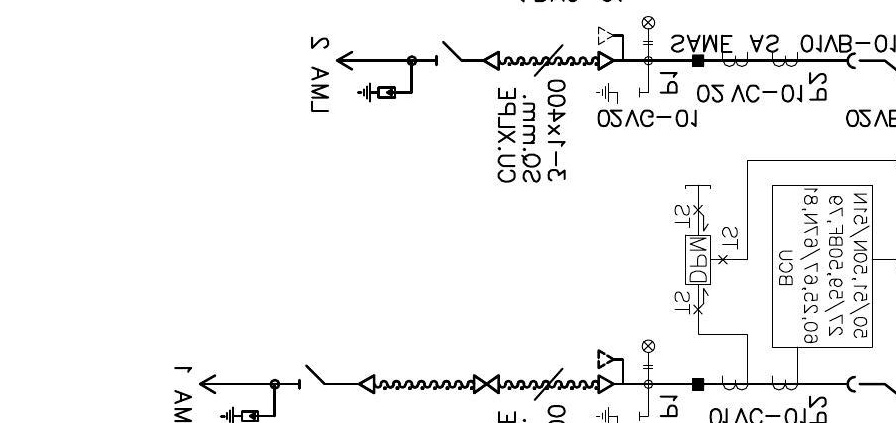22_ds_la_out: (335, 40, 463, 103)
22_gs: (596, 82, 641, 106)
22_ll: (641, 339, 656, 370), (641, 15, 656, 46)
DPM: (684, 233, 712, 287)
terminator_single: (482, 49, 501, 72), (358, 372, 377, 395)
terminator_splicing_kits: (473, 374, 501, 395)
terminator_w_future: (596, 348, 626, 395), (596, 25, 625, 72)
